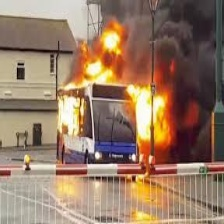fire: (59, 22, 169, 143)
smoke: (175, 3, 217, 140)
